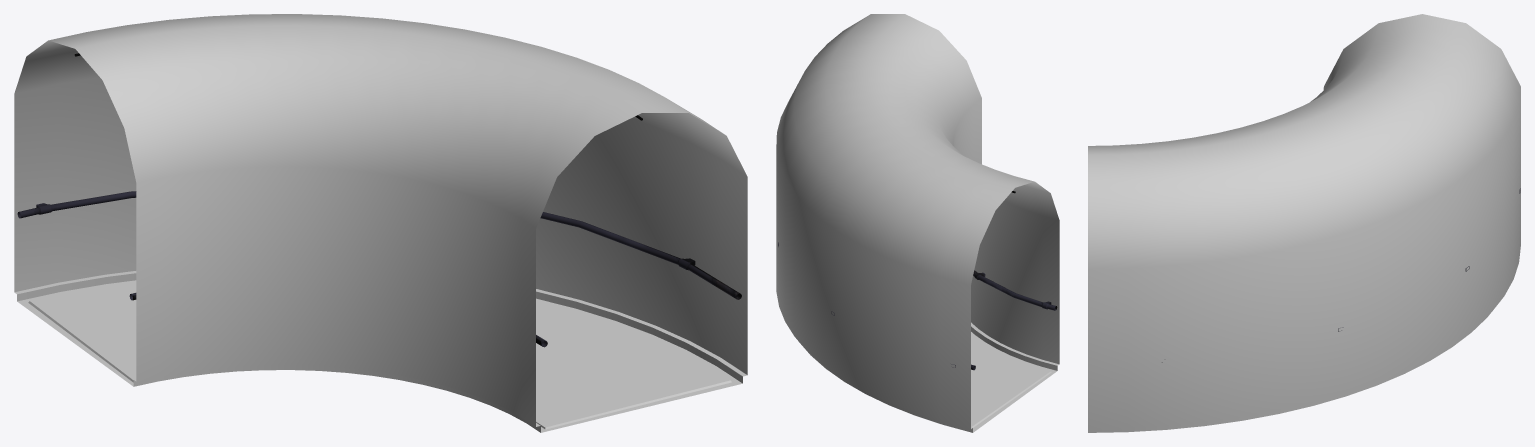
Rendered from section_Curve.fbx.
3 views of the same model, side by side, from view 1: azimuth 30°, elevation 25°; view 2: azimuth 150°, elevation 25°; view 3: azimuth 270°, elevation 25° (orthographic). The views are drawn at different scales.
Parts seen in each view (by area): view 1: section_Curve; view 2: section_Curve; view 3: section_Curve.
Part boxes in pixels (x1,y1,x2,y2): section_Curve: [14, 14, 747, 432]; section_Curve: [776, 14, 1059, 432]; section_Curve: [1088, 14, 1520, 432].
Size of the model in its own units: 659 by 400 by 659.
